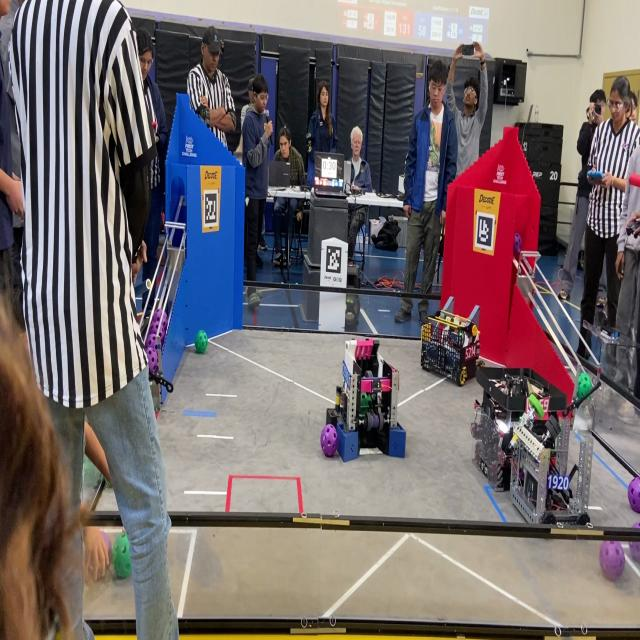artifact_green: (112, 533, 131, 578), (345, 294, 360, 325), (577, 372, 592, 400), (529, 394, 544, 418), (101, 531, 112, 561), (360, 393, 372, 415), (195, 331, 207, 353), (514, 233, 522, 255), (361, 393, 371, 404), (105, 478, 112, 488), (457, 329, 463, 340)
artifact_purple: (599, 542, 625, 581), (321, 425, 337, 457), (146, 321, 165, 347), (150, 320, 166, 345), (628, 478, 639, 513), (152, 309, 167, 331), (101, 531, 112, 561), (146, 347, 158, 374), (145, 329, 158, 349), (629, 542, 639, 561), (514, 233, 522, 255), (150, 320, 160, 337), (158, 325, 166, 346)
